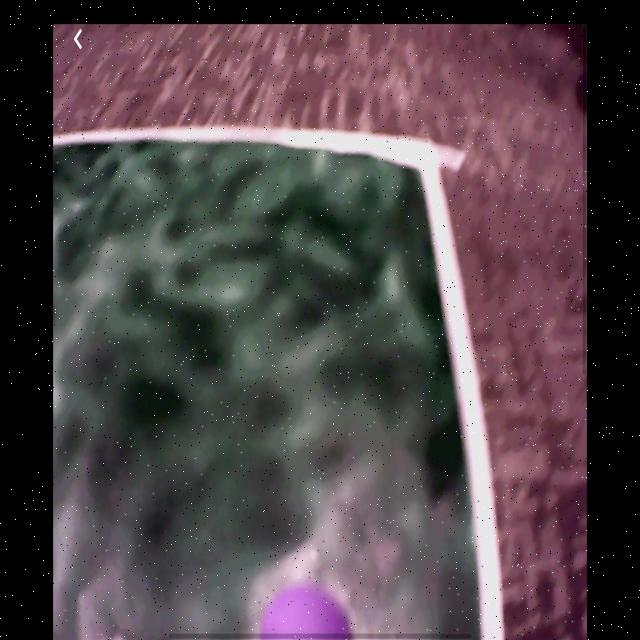ball: (260, 585, 352, 640)
